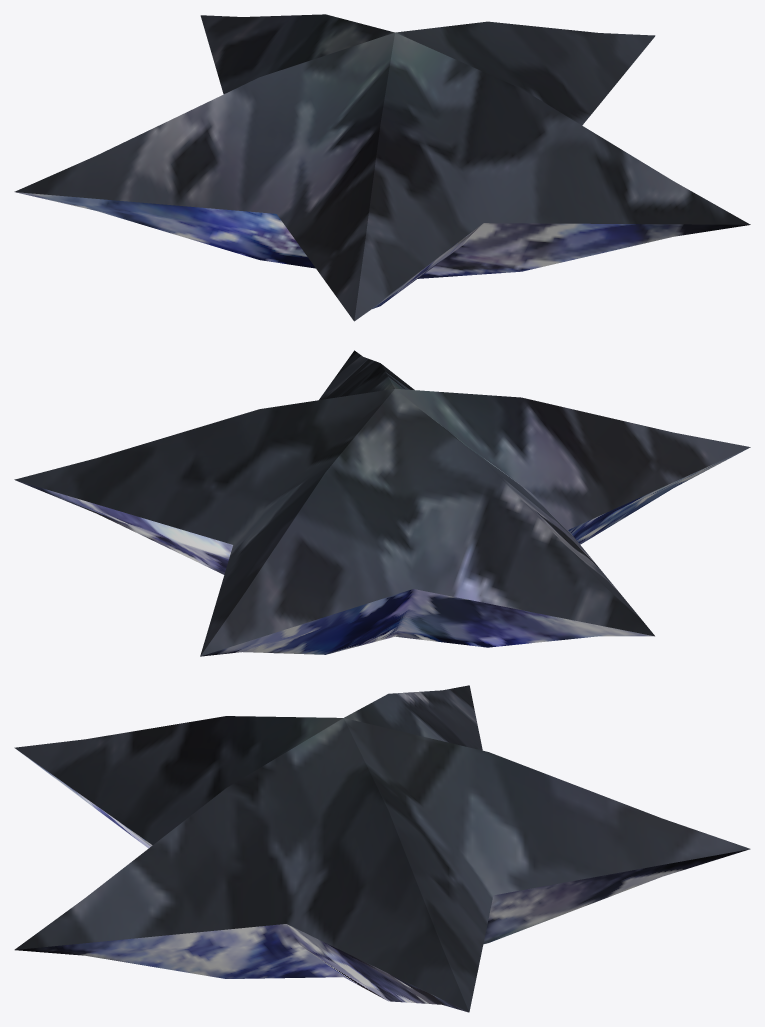
The model's file is star02.fbx.
3 views of the same model, one above another, from view 1: azimuth 30°, elevation 25°; view 2: azimuth 150°, elevation 25°; view 3: azimuth 270°, elevation 25° (orthographic). The views are drawn at different scales.
Visible parts, largest first — view 1: pCylinder9; view 2: pCylinder9; view 3: pCylinder9.
Part boxes in pixels (box(x1,y1,x2,y2)): pCylinder9: box(14, 14, 750, 321); pCylinder9: box(14, 350, 750, 656); pCylinder9: box(14, 685, 750, 1012).
Size of the model in its own units: 1.9 by 0.7016 by 1.81.
